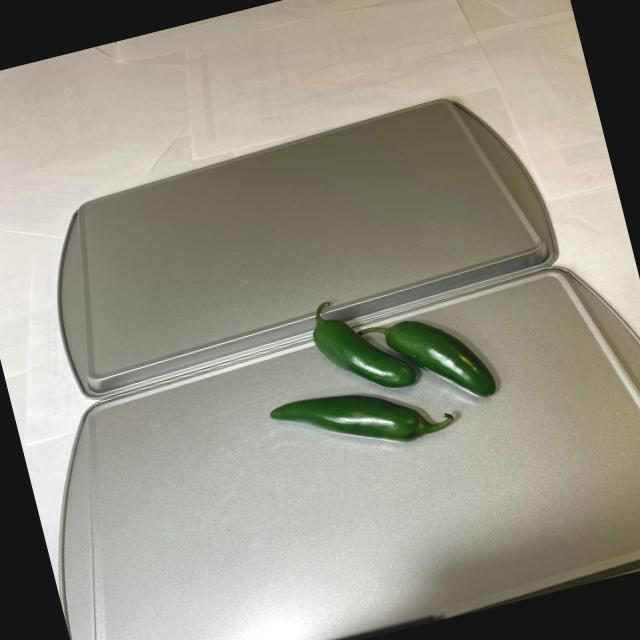chilli: (238, 262, 508, 474)
